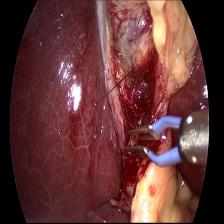Bipolar: (117, 106, 208, 172)
